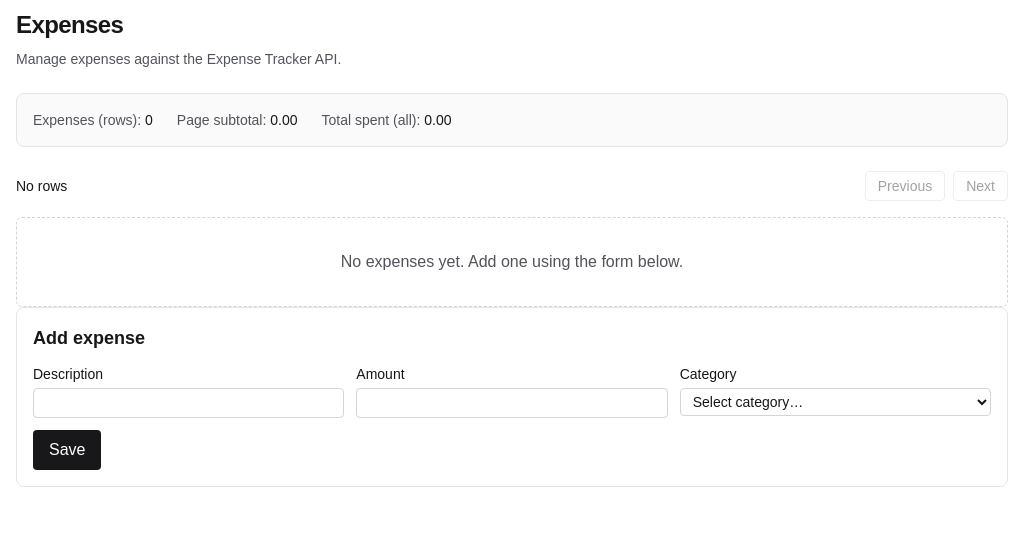
ExpenseDashboard › shows validation errors when create form is submitted empty
The image size is (1025, 544).
Check: the form with test id "expense-form-create" is shown, box left=16, top=307, right=1008, bottom=487
Click the button "Save".
click(67, 450)  # box left=33, top=430, right=102, bottom=470
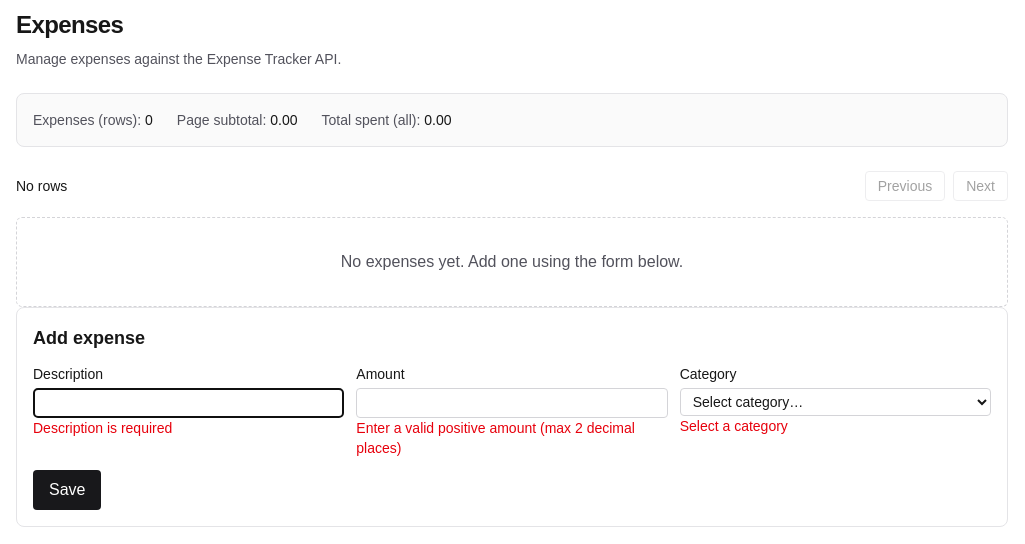
Check: the text "Description is required" is shown, box left=33, top=420, right=172, bottom=436
